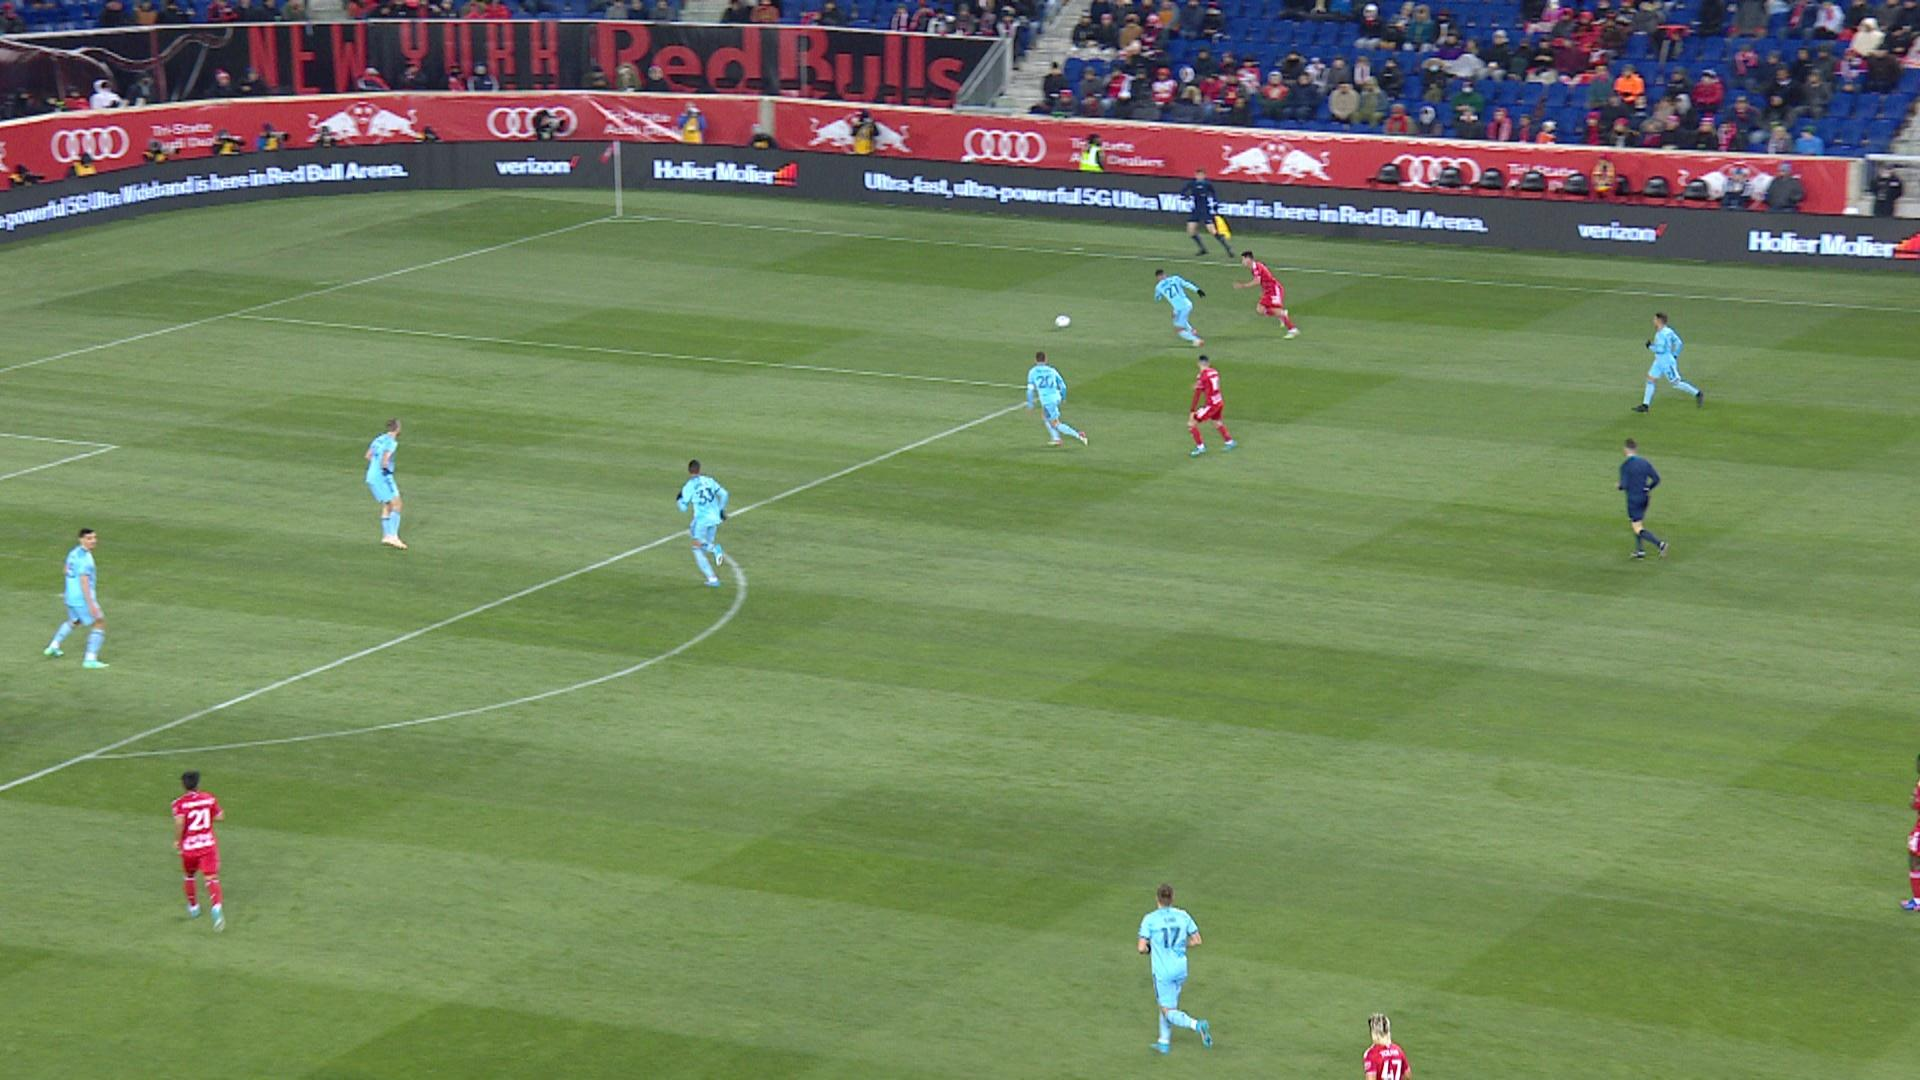football: (1055, 313, 1071, 330)
